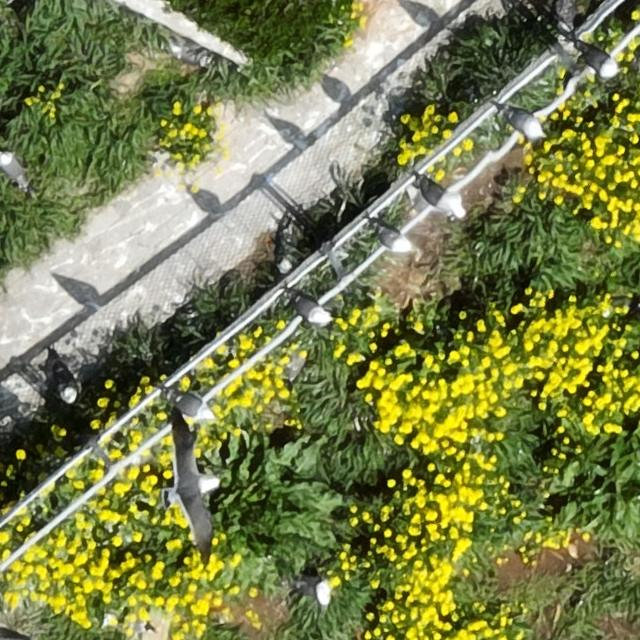F: (166, 430, 216, 536)
umineko: (416, 176, 472, 219), (49, 353, 79, 403), (580, 49, 616, 74), (171, 395, 209, 418), (504, 112, 540, 136), (292, 297, 326, 322), (2, 153, 26, 183), (376, 226, 404, 250), (313, 580, 330, 607)
